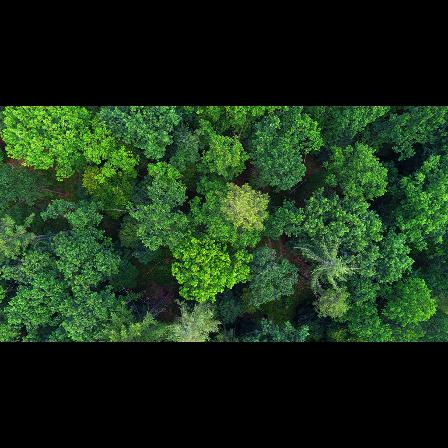Dead: (122, 286, 177, 327)
Sick: (308, 239, 351, 294)
